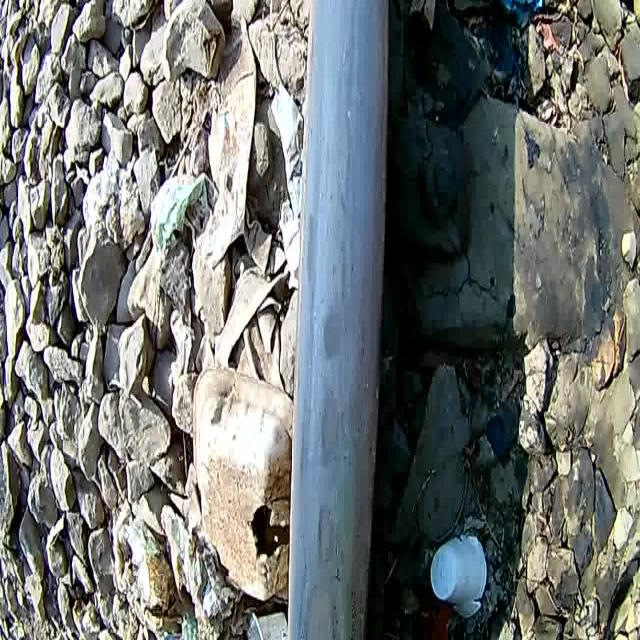Squats: (269, 0, 408, 640)
